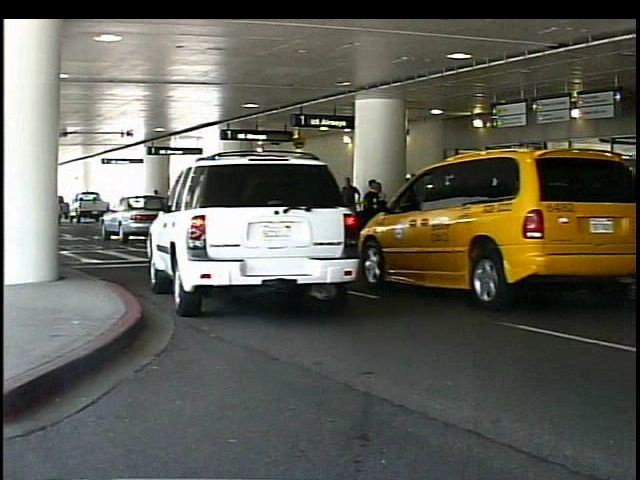person: (517, 165, 547, 262), (363, 178, 390, 260)
